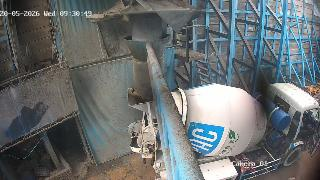cement_mixer_truck: (127, 82, 320, 180)
swing_chute: (128, 38, 167, 98)
